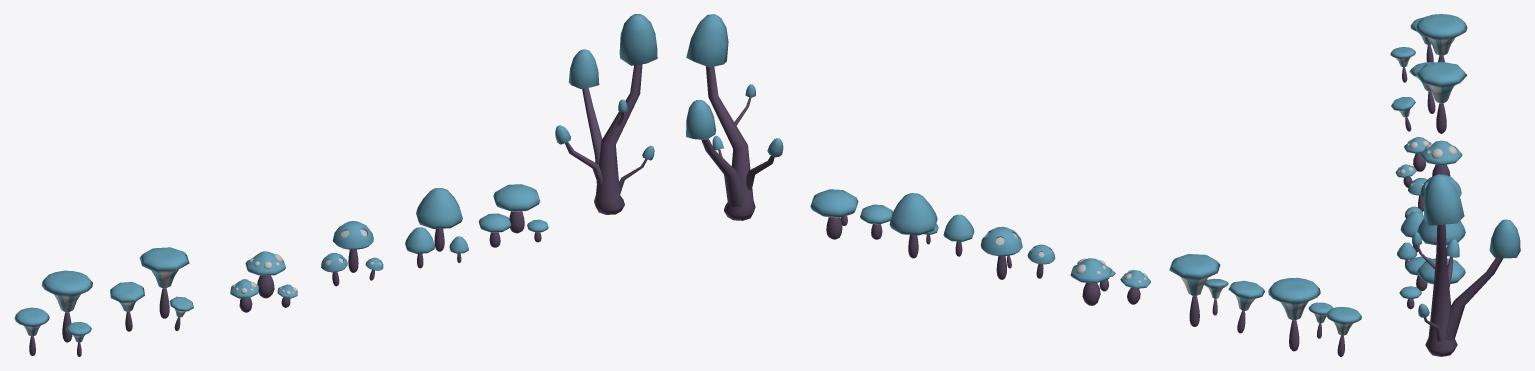
The model's file is Mushrooms.fbx.
The picture shows the model from 3 angles, left to right: view 1: azimuth 30°, elevation 25°; view 2: azimuth 150°, elevation 25°; view 3: azimuth 270°, elevation 25°; orthographic projection. The views are drawn at different scales.
Parts seen in each view (by area): view 1: Mushroom_Tree, Weird_Shroom_01 (×2), Buff_Mushroom_01, Chunky_Shroom_03, Glowy_Shrooms_01, Spots_Shroom_01, Weird_Shroom_02, Weird_Shroom_04, Buff_Mushroom_02, Chunky_Shroom_02, Spots_Shroom_02, Glowy_Shrooms_02; view 2: Mushroom_Tree, Weird_Shroom_01 (×2), Buff_Mushroom_01, Chunky_Shroom_03, Glowy_Shrooms_01, Spots_Shroom_01, Weird_Shroom_02, Weird_Shroom_04, Buff_Mushroom_02, Chunky_Shroom_02, Spots_Shroom_02, Glowy_Shrooms_02; view 3: Mushroom_Tree, Weird_Shroom_01 (×2), Spots_Shroom_01, Buff_Mushroom_01, Chunky_Shroom_03, Spots_Shroom_02, Buff_Mushroom_02, Weird_Shroom_03, Weird_Shroom_05, Chunky_Shroom_02, Weird_Shroom_02, Glowy_Shrooms_02 (+5 smaller).
Boxes of the visible parts, left/top/right/bottom form: Mushroom_Tree: left=555, top=14, right=657, bottom=214; Weird_Shroom_01 (×2): left=41, top=247, right=189, bottom=342; Buff_Mushroom_01: left=416, top=188, right=462, bottom=251; Chunky_Shroom_03: left=493, top=184, right=540, bottom=233; Glowy_Shrooms_01: left=333, top=221, right=373, bottom=272; Spots_Shroom_01: left=245, top=251, right=285, bottom=298; Weird_Shroom_02: left=110, top=282, right=144, bottom=331; Weird_Shroom_04: left=14, top=307, right=49, bottom=355; Buff_Mushroom_02: left=405, top=227, right=434, bottom=268; Chunky_Shroom_02: left=478, top=213, right=511, bottom=247; Spots_Shroom_02: left=230, top=279, right=258, bottom=312; Glowy_Shrooms_02: left=321, top=253, right=347, bottom=286; Mushroom_Tree: left=686, top=14, right=783, bottom=220; Weird_Shroom_01 (×2): left=1169, top=254, right=1320, bottom=351; Buff_Mushroom_01: left=889, top=193, right=937, bottom=258; Chunky_Shroom_03: left=810, top=189, right=858, bottom=239; Glowy_Shrooms_01: left=980, top=226, right=1022, bottom=279; Spots_Shroom_01: left=1070, top=258, right=1111, bottom=305; Weird_Shroom_02: left=1228, top=280, right=1264, bottom=333; Weird_Shroom_04: left=1326, top=307, right=1361, bottom=356; Buff_Mushroom_02: left=943, top=214, right=974, bottom=256; Chunky_Shroom_02: left=860, top=204, right=892, bottom=239; Spots_Shroom_02: left=1120, top=269, right=1150, bottom=304; Glowy_Shrooms_02: left=1027, top=244, right=1055, bottom=278; Mushroom_Tree: left=1412, top=174, right=1520, bottom=356; Weird_Shroom_01 (×2): left=1415, top=14, right=1467, bottom=133; Spots_Shroom_01: left=1420, top=140, right=1462, bottom=176; Buff_Mushroom_01: left=1417, top=218, right=1465, bottom=245; Chunky_Shroom_03: left=1417, top=258, right=1465, bottom=284; Spots_Shroom_02: left=1404, top=137, right=1431, bottom=171; Buff_Mushroom_02: left=1400, top=211, right=1424, bottom=252; Weird_Shroom_03: left=1391, top=97, right=1415, bottom=131; Weird_Shroom_05: left=1390, top=47, right=1415, bottom=82; Chunky_Shroom_02: left=1405, top=256, right=1431, bottom=291; Weird_Shroom_02: left=1409, top=62, right=1436, bottom=113; Glowy_Shrooms_02: left=1408, top=178, right=1427, bottom=211.
Bounding box in the file's own units: 60.81 × 17.28 × 10.55.
